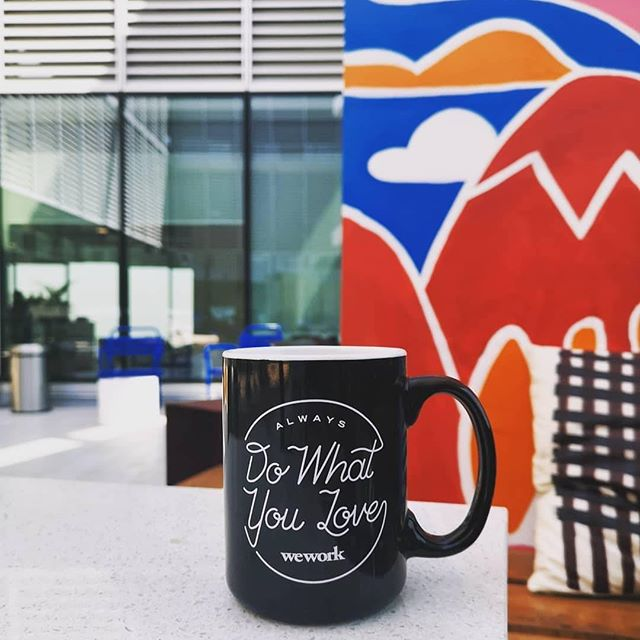wework: (278, 543, 349, 565)
